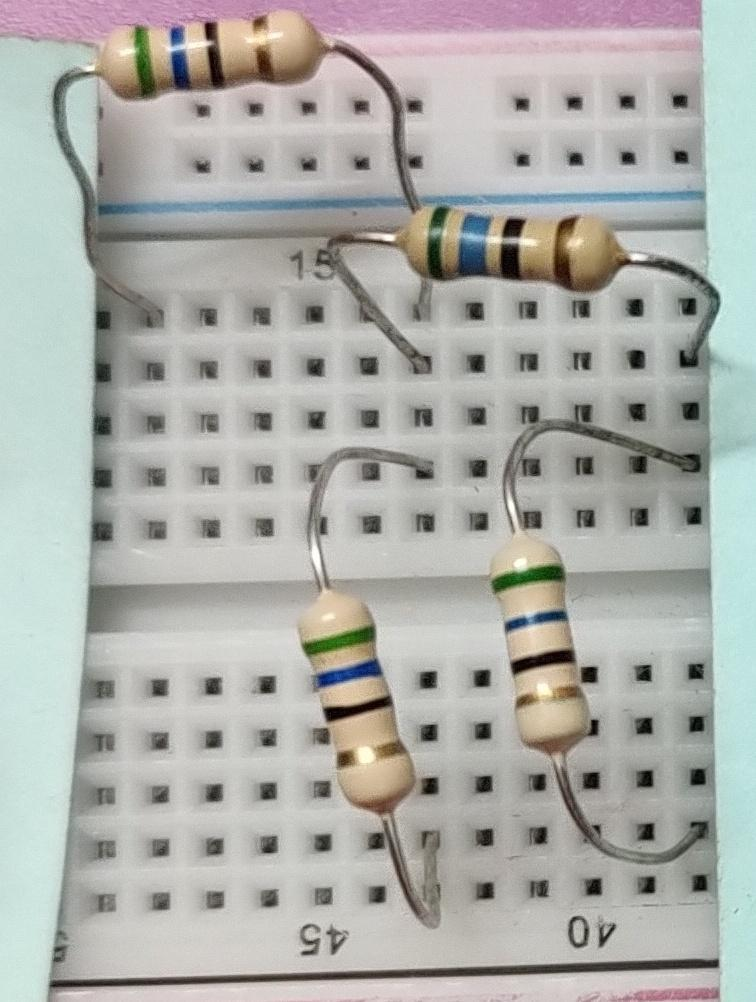resistor: (473, 519, 612, 754), (285, 583, 418, 819), (393, 193, 634, 298), (89, 5, 334, 105)
